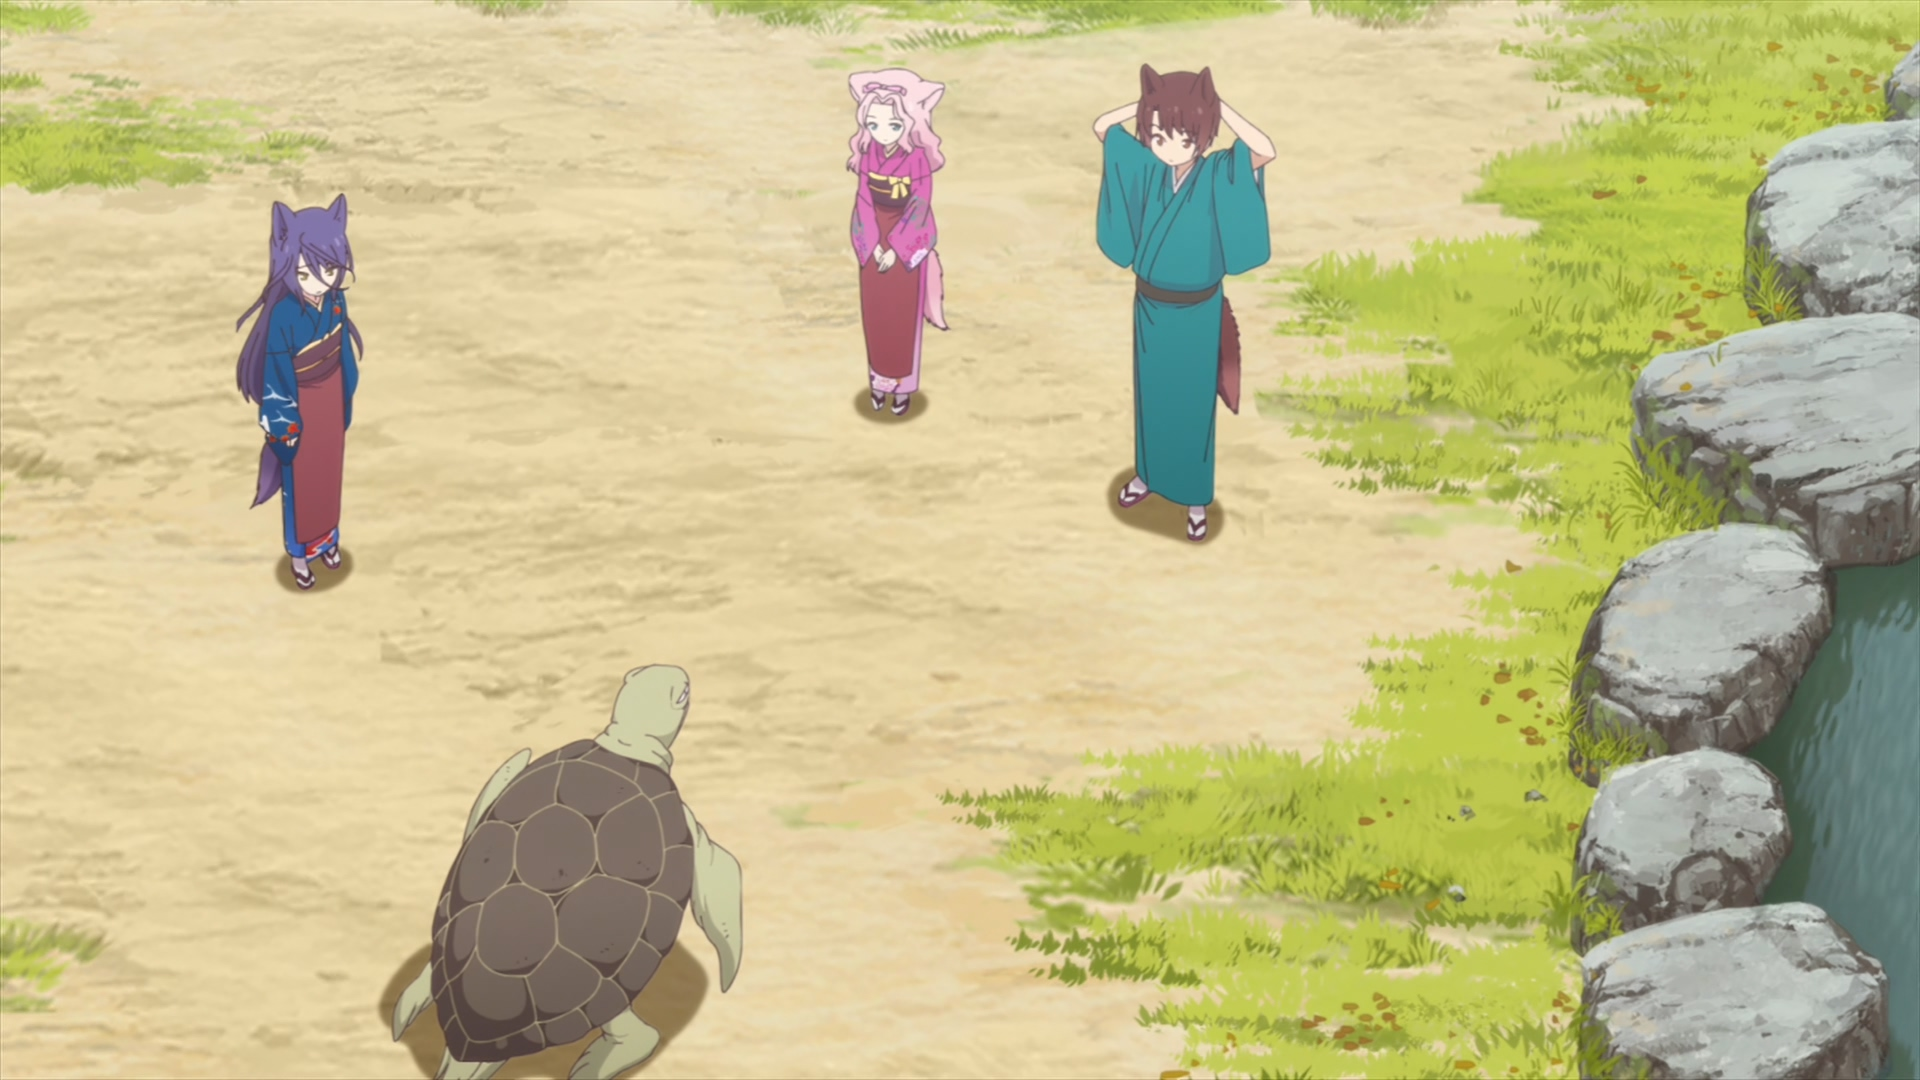其他: (392, 665, 741, 1080)
枣: (1093, 63, 1276, 545)
皋: (237, 193, 365, 589)
莲: (847, 67, 948, 417)
